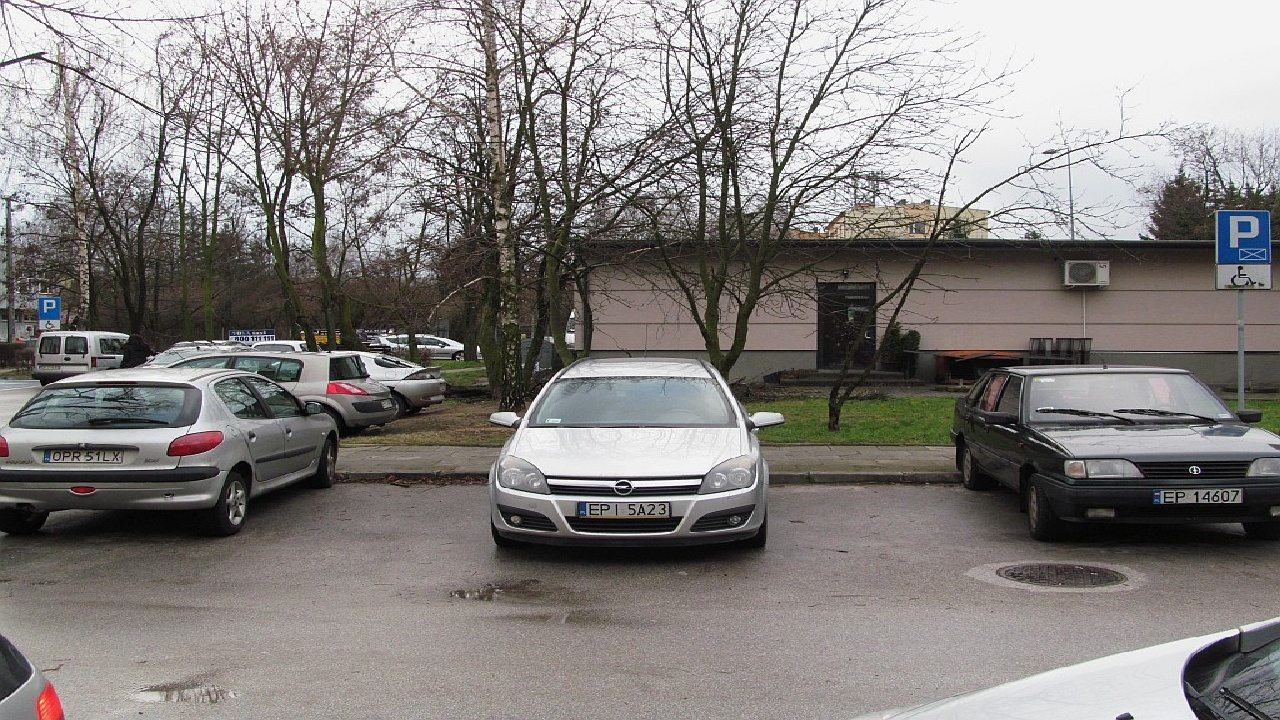D18: (1218, 210, 1271, 263), (39, 298, 61, 319)
